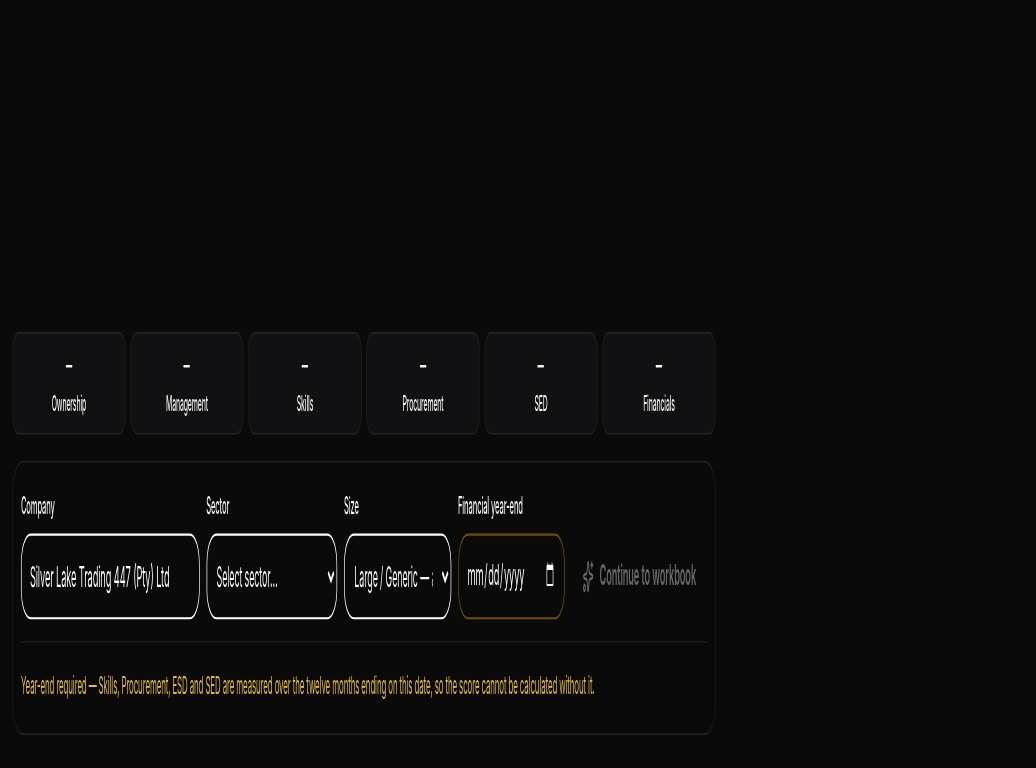
Test: DocumentUploadStart — financial year-end › will not build the scorecard until a year end is given, and says why
(page scrolled)
Expected: the button with test id "button-create-from-documents" is disabled, x1=572 y1=532 x2=707 y2=618
Expected: the text with test id "docs-year-end-hint" shows "cannot be calculated without it", x1=21 y1=669 x2=594 y2=699
Type "2026-02-28" into the date field with test id "docs-year-end" at (512, 575), box x1=458 y1=532 x2=565 y2=618
(page scrolled)
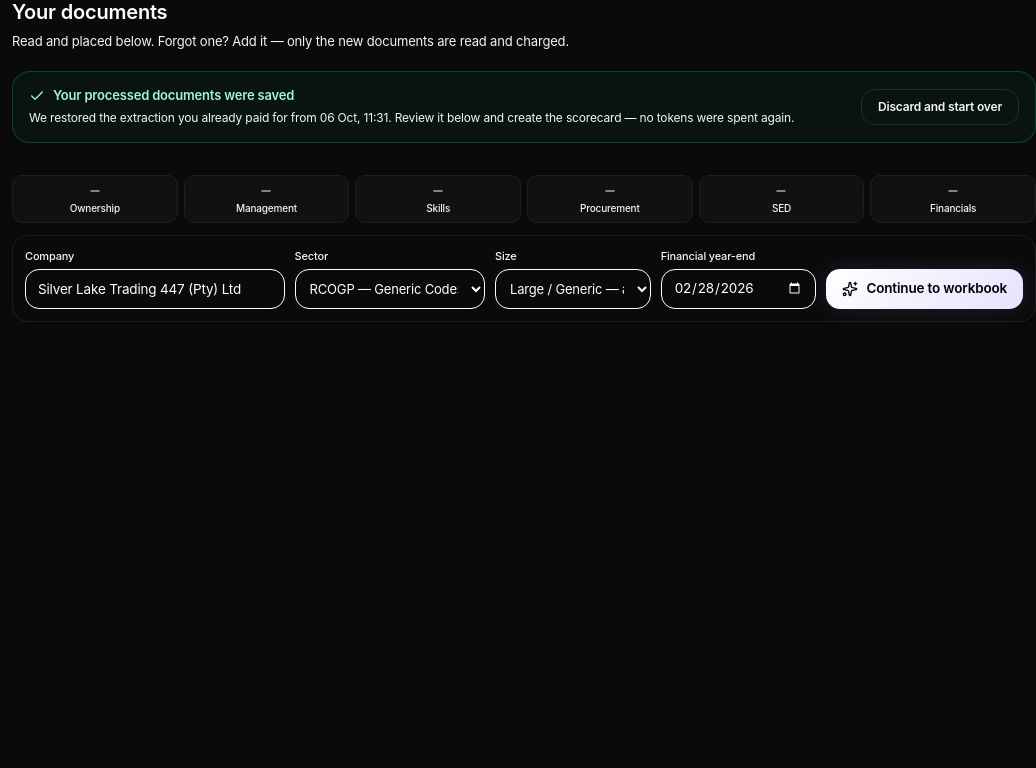
Now the button with test id "button-create-from-documents" is enabled, box x1=826 y1=268 x2=1023 y2=308
Now the text with test id "docs-year-end-hint" is gone
